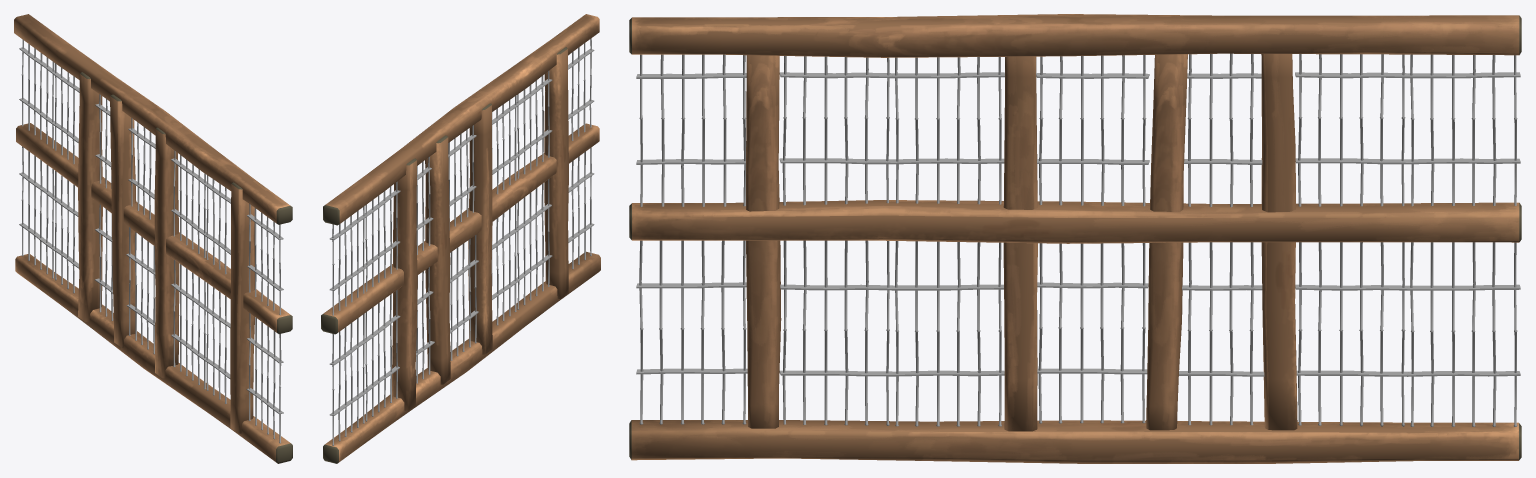
File: wallJailNoHole.fbx
The picture shows the model from 3 angles, left to right: view 1: azimuth 30°, elevation 25°; view 2: azimuth 150°, elevation 25°; view 3: azimuth 270°, elevation 25°; orthographic projection. The views are drawn at different scales.
Parts seen in each view (by area): view 1: beamMedium9, doorMetal24; view 2: beamMedium9, doorMetal24; view 3: beamMedium9, doorMetal24.
Part boxes in pixels (x1=…): beamMedium9: x1=14, y1=14, x2=292, y2=463; doorMetal24: x1=19, y1=39, x2=283, y2=443; beamMedium9: x1=321, y1=14, x2=600, y2=463; doorMetal24: x1=329, y1=38, x2=594, y2=445; beamMedium9: x1=629, y1=14, x2=1521, y2=463; doorMetal24: x1=636, y1=53, x2=1520, y2=426.
Size of the model in its own units: 0.401 by 4.44 by 8.17.
